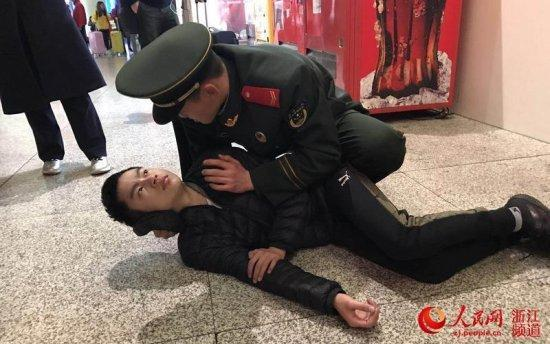Fall-Detected: (92, 145, 550, 335)
